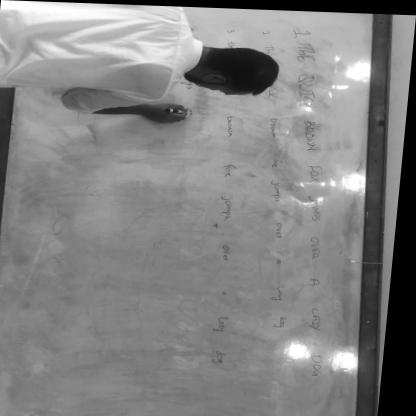Handwritten text: (288, 37, 348, 384), (213, 110, 260, 376), (255, 110, 307, 335)
Lecturer: (0, 9, 291, 111)
Whiteboard: (0, 4, 381, 416)
